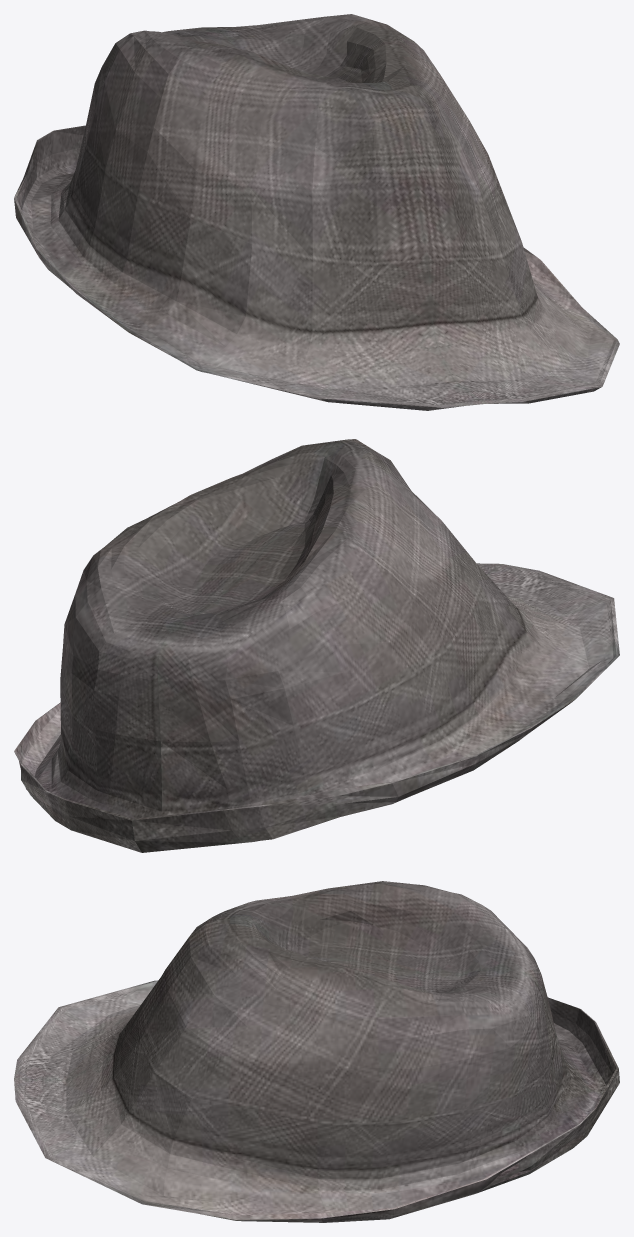
File: mhw_fedora_cocked.glb
The picture shows the model from 3 angles, top to bottom: view 1: azimuth 30°, elevation 25°; view 2: azimuth 150°, elevation 25°; view 3: azimuth 270°, elevation 25°; orthographic projection. The views are drawn at different scales.
Parts seen in each view (by area): view 1: mhw_fedora_cocked; view 2: mhw_fedora_cocked; view 3: mhw_fedora_cocked.
Boxes of the visible parts, left/top/right/bottom form: mhw_fedora_cocked: left=14, top=14, right=619, bottom=410; mhw_fedora_cocked: left=14, top=439, right=619, bottom=852; mhw_fedora_cocked: left=14, top=881, right=619, bottom=1222.
Bounding box in the file's own units: 0.2069 × 0.119 × 0.2862.
Materials: 1 (1 with a texture image).
